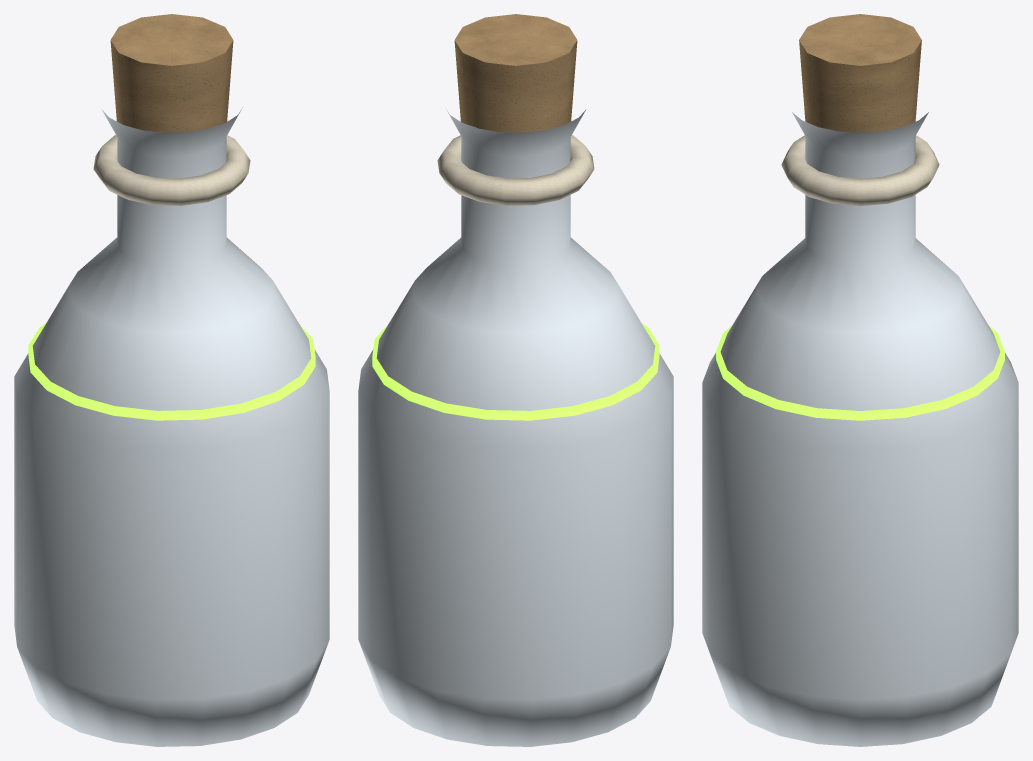
File: stamina_potion.glb
The picture shows the model from 3 angles, left to right: view 1: azimuth 30°, elevation 25°; view 2: azimuth 150°, elevation 25°; view 3: azimuth 270°, elevation 25°; orthographic projection.
Parts seen in each view (by area): view 1: stamina_potion; view 2: stamina_potion; view 3: stamina_potion.
Boxes of the visible parts, bbox=[...] form: stamina_potion: bbox=[14, 14, 329, 746]; stamina_potion: bbox=[358, 14, 673, 746]; stamina_potion: bbox=[702, 14, 1018, 746].
Bounding box in the file's own units: 0.092 × 0.21 × 0.092.
5 materials, 2 textured.
